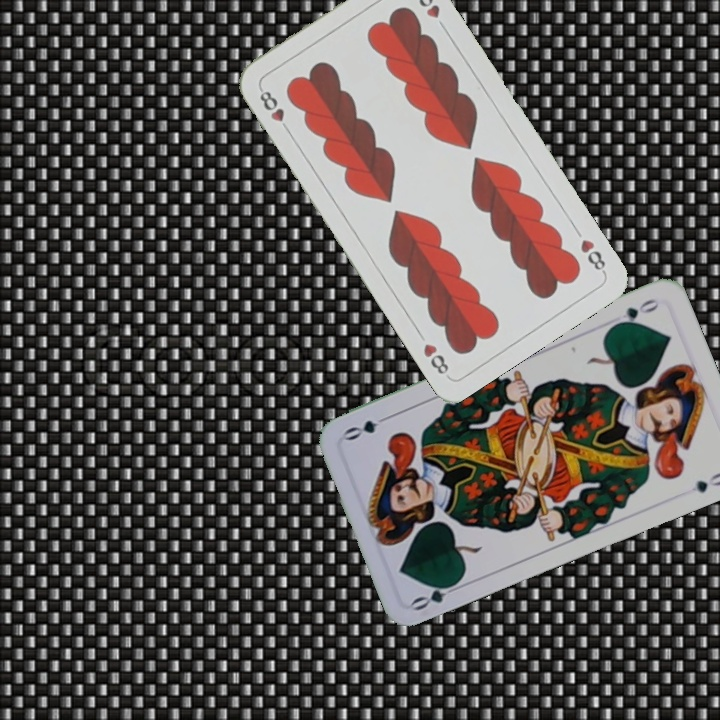GO: (408, 576, 465, 614), (608, 294, 662, 330)
H8: (255, 84, 294, 136), (576, 235, 609, 276)
